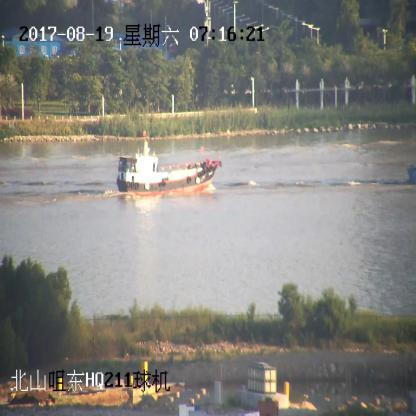Fishing Boat: (116, 138, 221, 196)
